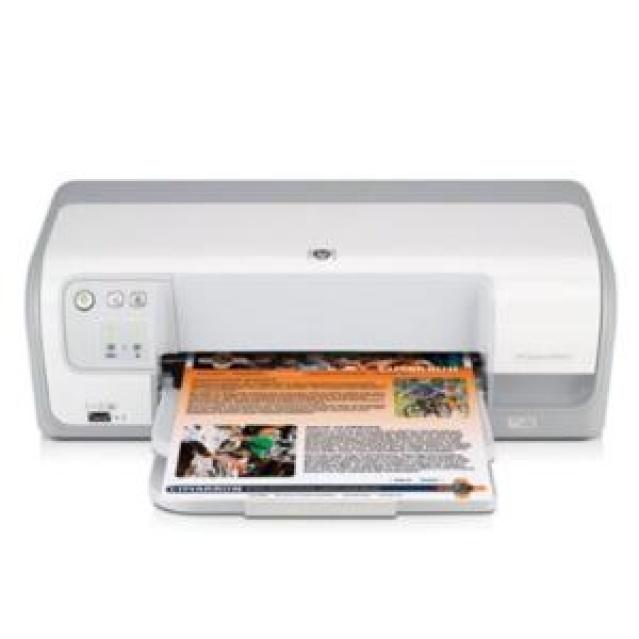Printer: (23, 177, 616, 517)
